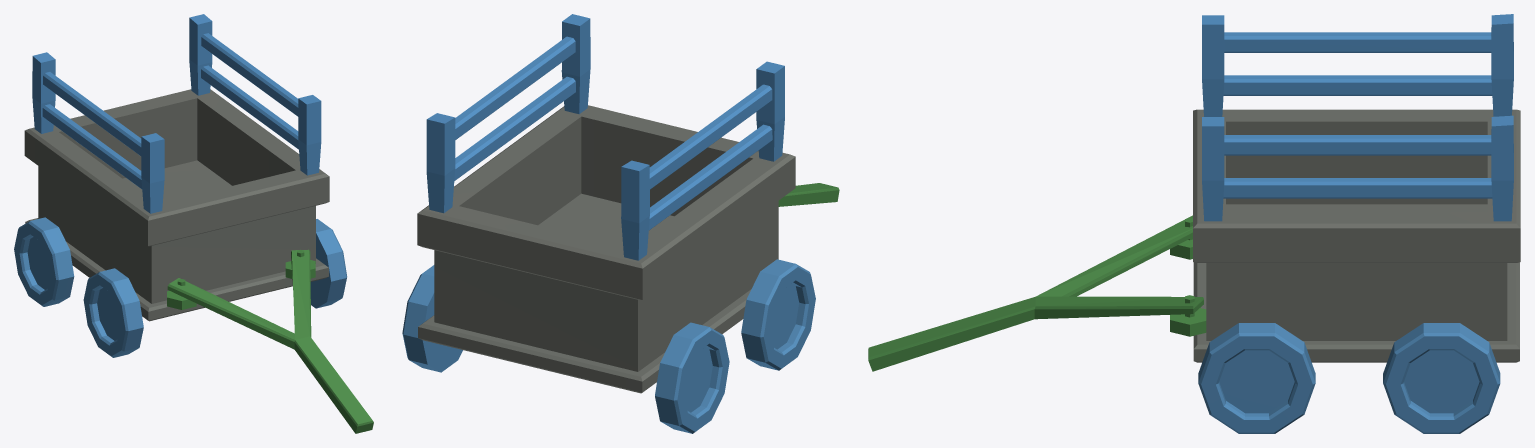
File: cart_a.gltf
3 views of the same model, side by side, from view 1: azimuth 30°, elevation 25°; view 2: azimuth 150°, elevation 25°; view 3: azimuth 270°, elevation 25° (orthographic). The views are drawn at different scales.
Parts seen in each view (by area): view 1: body, wheel_2, wheel_5, wheel_4, wheel_1, wheel_6; view 2: body, wheel_5, wheel_2, wheel_1, wheel_4, wheel_9; view 3: body, wheel_8, wheel_11, wheel_7, wheel_10.
Part boxes in pixels (box(x1,y1,x2,y2)): body: box(18, 14, 373, 433); wheel_2: box(83, 274, 125, 356); wheel_5: box(14, 223, 55, 305); wheel_4: box(27, 237, 50, 289); wheel_1: box(97, 288, 119, 340); wheel_6: box(310, 233, 330, 308); body: box(402, 14, 839, 433); wheel_5: box(677, 330, 729, 431); wheel_2: box(763, 267, 815, 368); wheel_1: box(770, 283, 799, 349); wheel_4: box(684, 347, 712, 412); wheel_9: box(422, 293, 462, 372); body: box(868, 14, 1520, 433); wheel_8: box(1201, 336, 1312, 432); wheel_11: box(1386, 336, 1497, 432); wheel_7: box(1219, 350, 1294, 413); wheel_10: box(1404, 350, 1479, 413).
Size of the model in its own units: 0.607 by 0.5796 by 1.17.
1 material, 1 textured.
